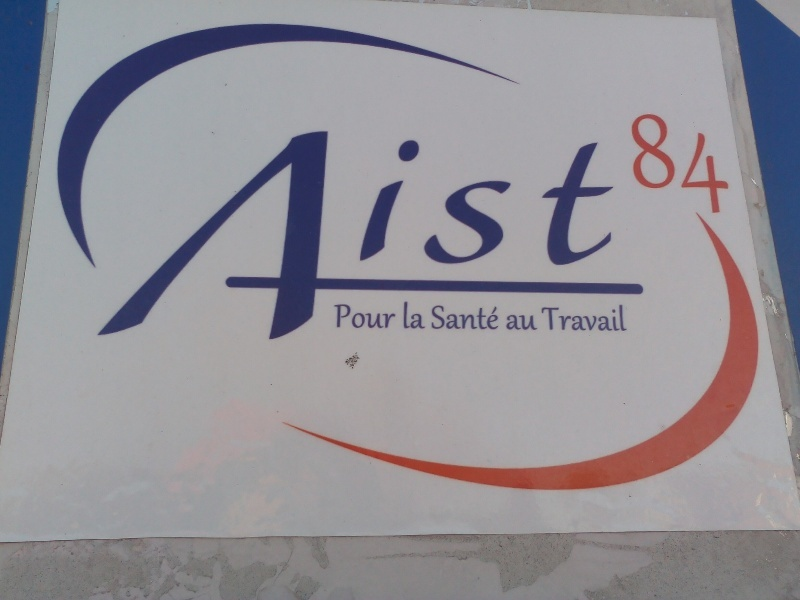text: (305, 129, 320, 344), (321, 129, 336, 344), (337, 129, 352, 344), (353, 129, 368, 344), (369, 129, 384, 344), (385, 129, 400, 344), (401, 129, 416, 344), (417, 129, 432, 344), (433, 129, 448, 344), (449, 129, 464, 344), (465, 129, 480, 344), (481, 129, 496, 344), (497, 129, 512, 344), (513, 129, 528, 344), (529, 129, 544, 344), (545, 129, 560, 344), (561, 129, 576, 344), (577, 129, 592, 344), (593, 129, 608, 344), (609, 129, 624, 344), (625, 129, 640, 344), (641, 129, 656, 344), (291, 129, 304, 344), (641, 106, 656, 220), (657, 106, 672, 220), (673, 106, 688, 220), (689, 106, 704, 220), (705, 106, 720, 220), (721, 106, 731, 220), (631, 106, 640, 220), (545, 304, 560, 333), (561, 304, 576, 333), (577, 304, 592, 333), (593, 304, 608, 333), (609, 304, 624, 333), (337, 303, 352, 329), (353, 303, 368, 329), (369, 303, 384, 329), (433, 305, 448, 331), (449, 305, 464, 331), (465, 305, 480, 331), (481, 305, 496, 331), (404, 301, 416, 330), (385, 303, 397, 329), (417, 301, 427, 330), (513, 315, 528, 331), (529, 315, 539, 331), (497, 305, 502, 331), (506, 315, 512, 331), (541, 304, 544, 333), (625, 304, 628, 333), (335, 303, 336, 329), (431, 305, 432, 331)
